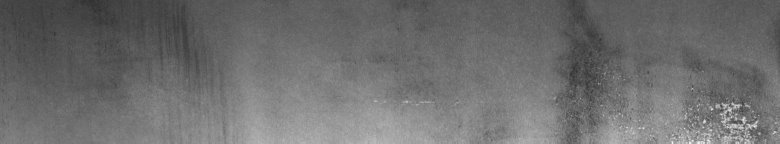hc: (553, 32, 776, 136)
